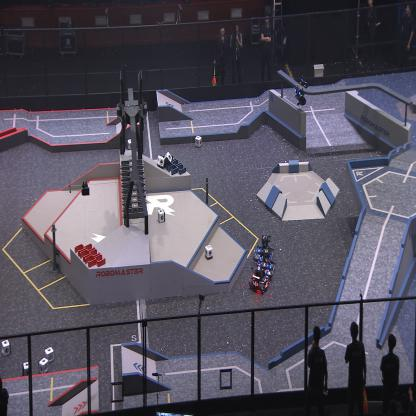car: (249, 259, 270, 291), (252, 232, 274, 262)
